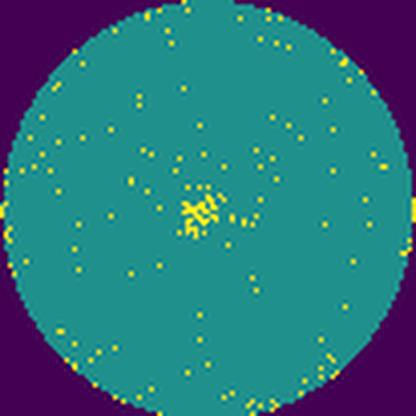Center: (178, 192, 226, 238)
